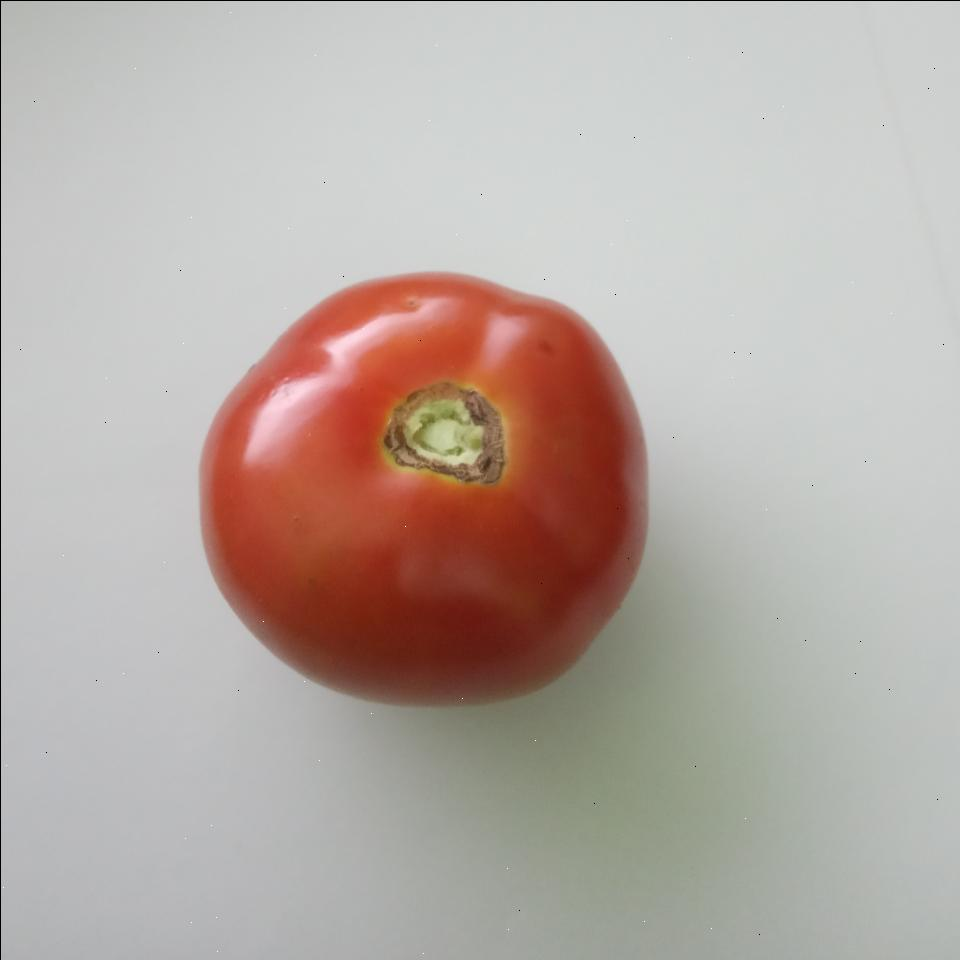Healthy: (159, 257, 695, 722)
